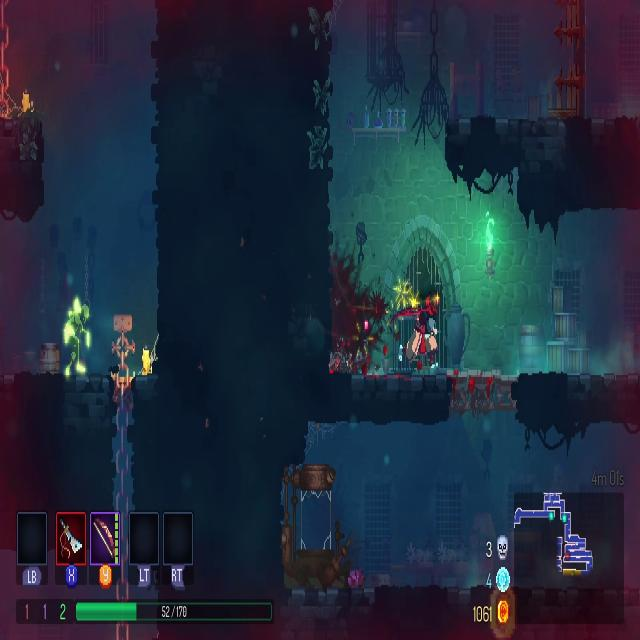agents: (405, 295, 440, 372)
enemy_green_puncher: (64, 301, 91, 379)
wood_floor: (447, 363, 518, 418)
